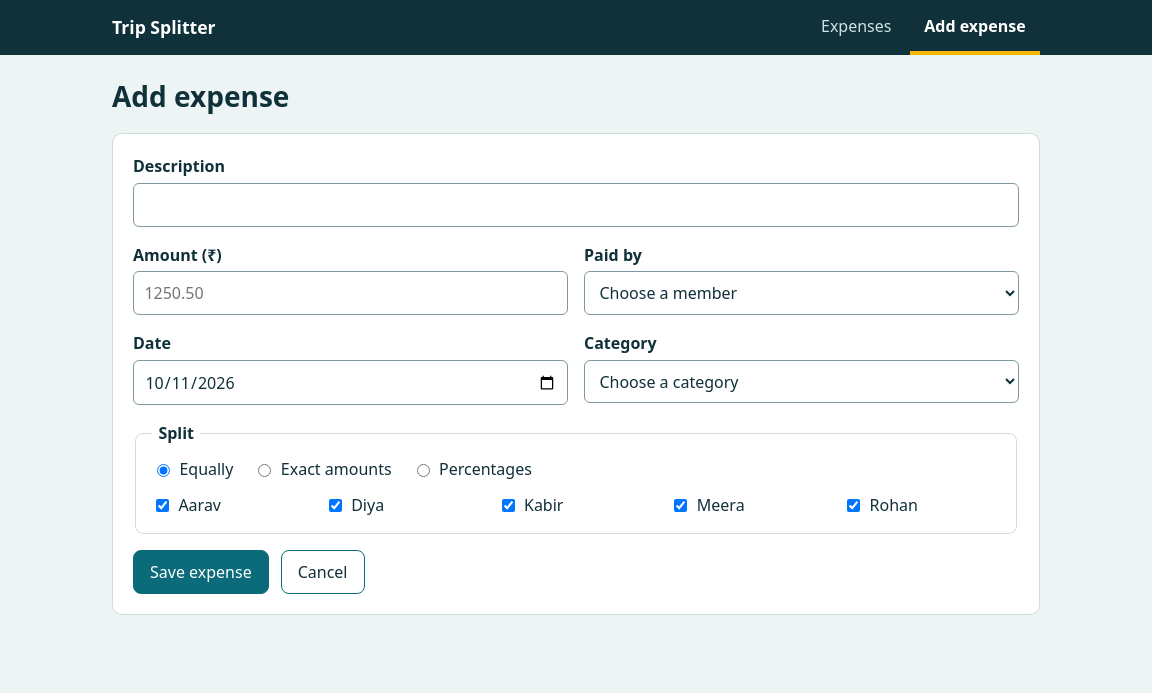
it: Add expense form › shows an error next to every broken field and saves nothing
This screenshot has width=1152, height=693.
What coordinates should you click on to do the following:
click the button "Save expense"
I would click on:
 (201, 572)
Its box is [133,550,269,594].
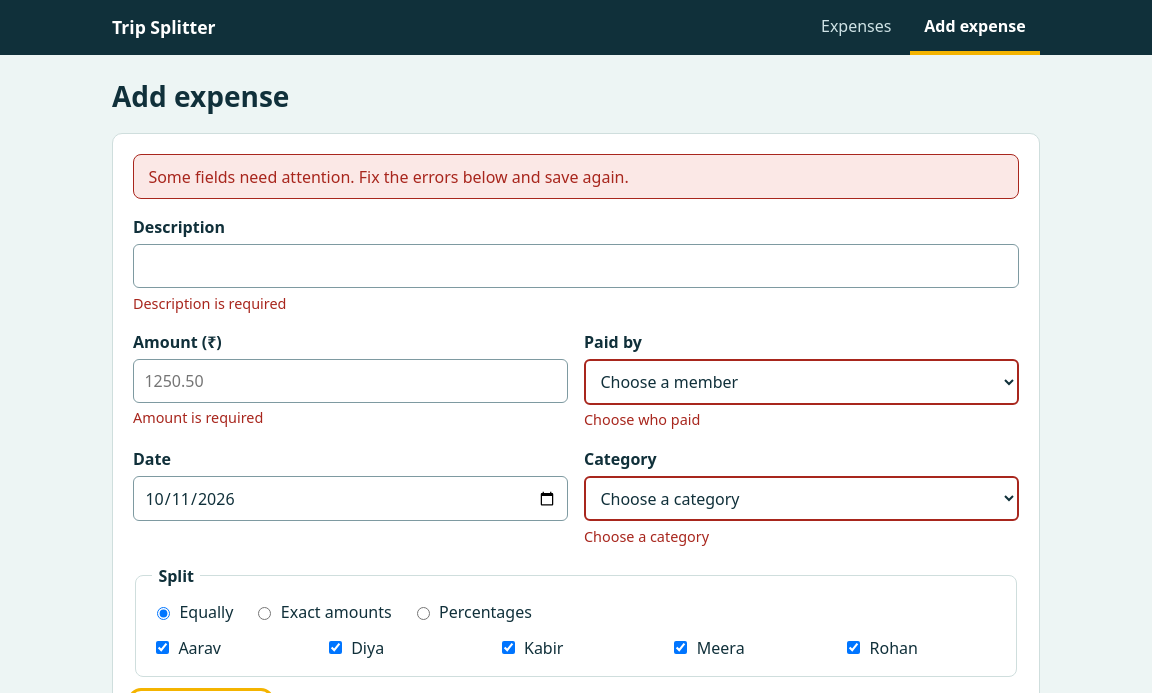
Expected: the text "Description is required" is shown, [133,294,286,313]
Expected: the text "Amount is required" is shown, [133,408,263,427]
Expected: the text "Choose who paid" is shown, [584,410,700,429]
